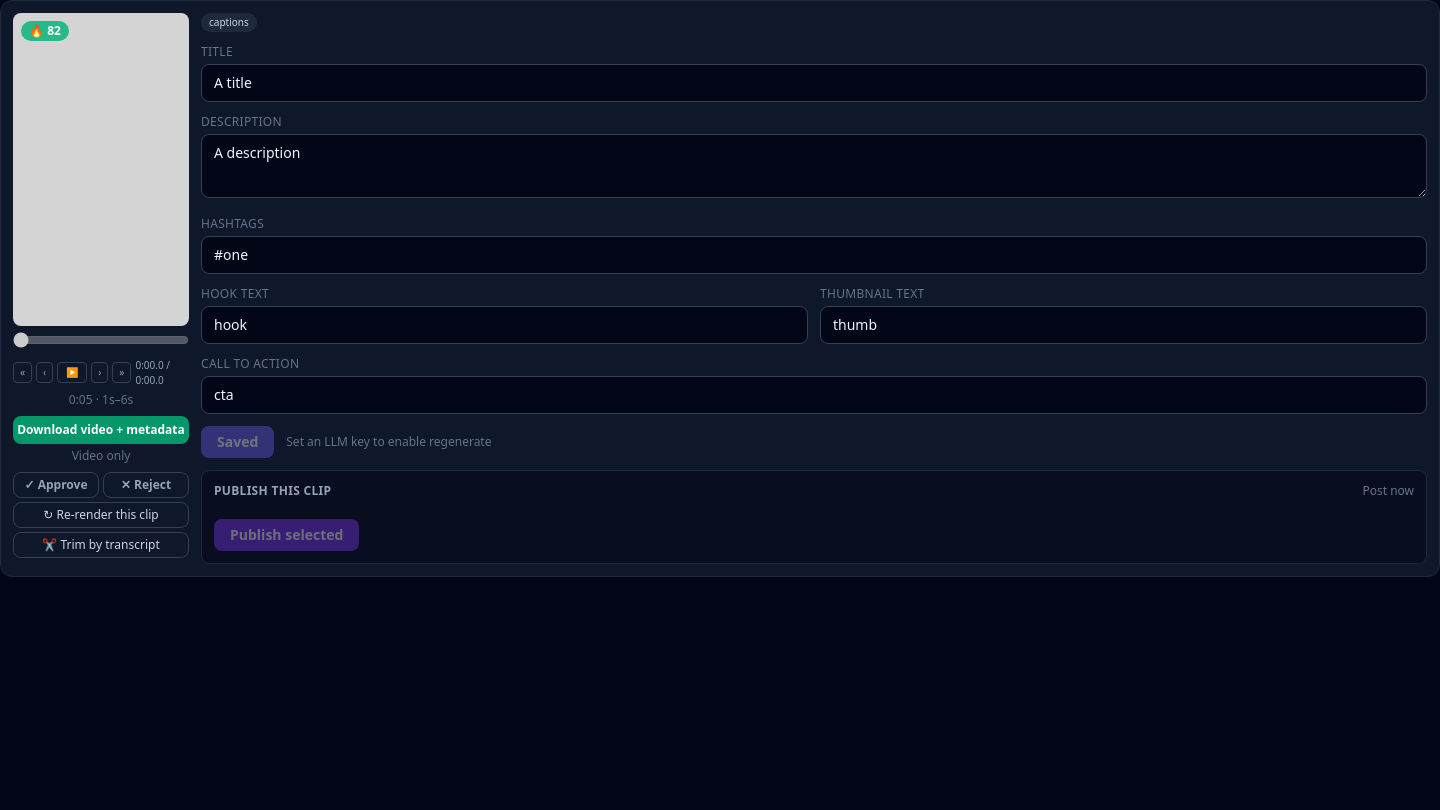
ClipCard review verdict (U9) › surfaces a failure instead of pretending the verdict stuck
Click the button "✓ Approve" at (56, 485), box left=13, top=472, right=99, bottom=498
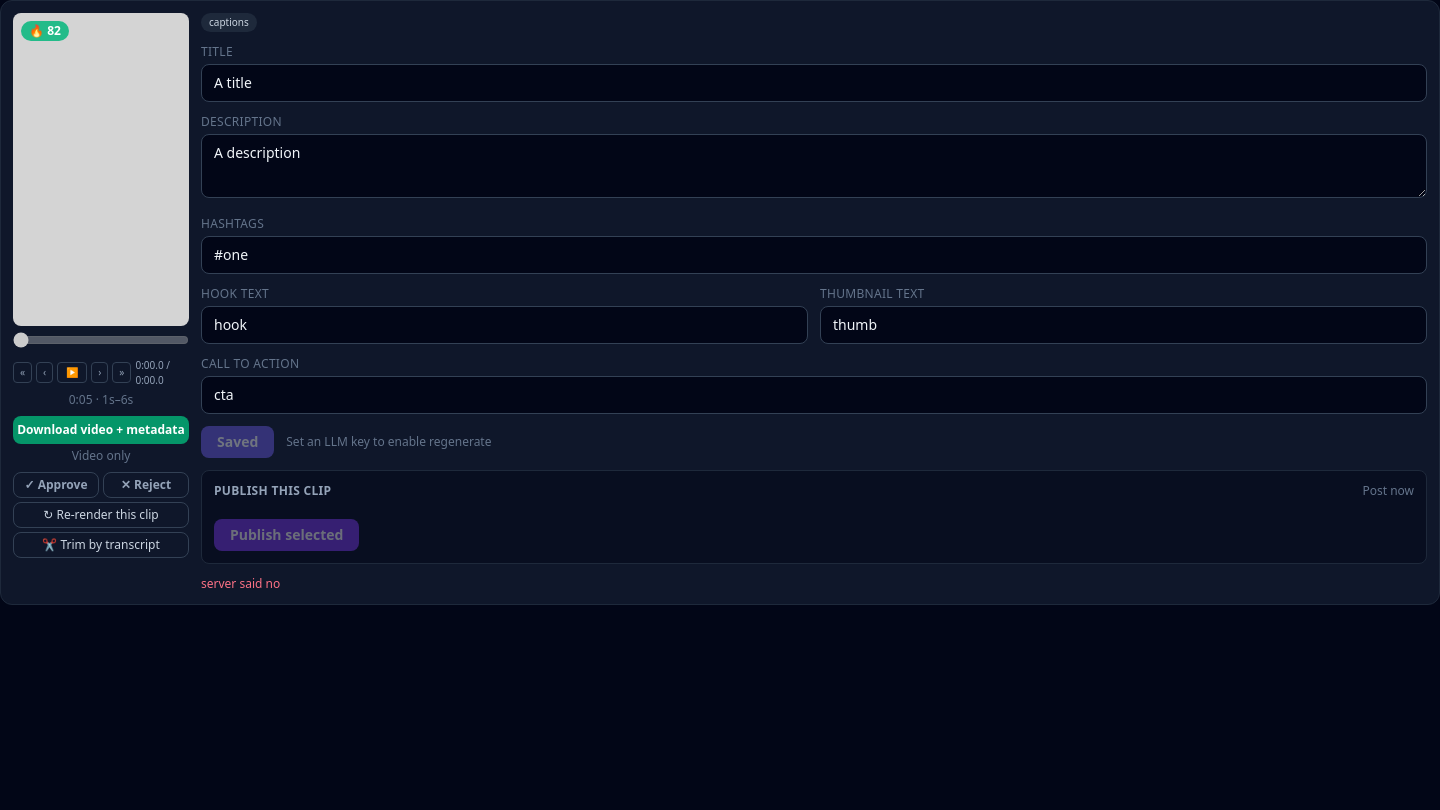
Result: the text "server said no" is shown at left=201, top=575, right=280, bottom=592
